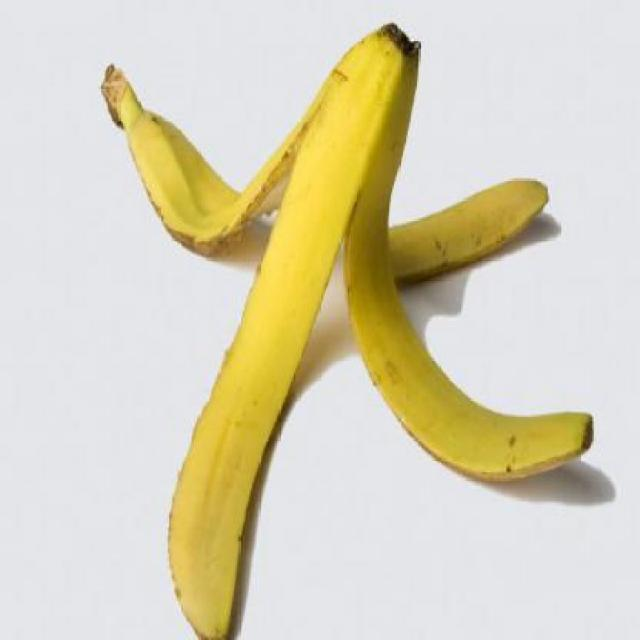banana-peel: (98, 21, 594, 639)
